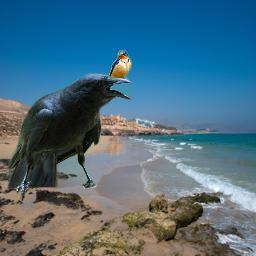Crow: (4, 73, 133, 201)
Swallow: (101, 50, 132, 90)
